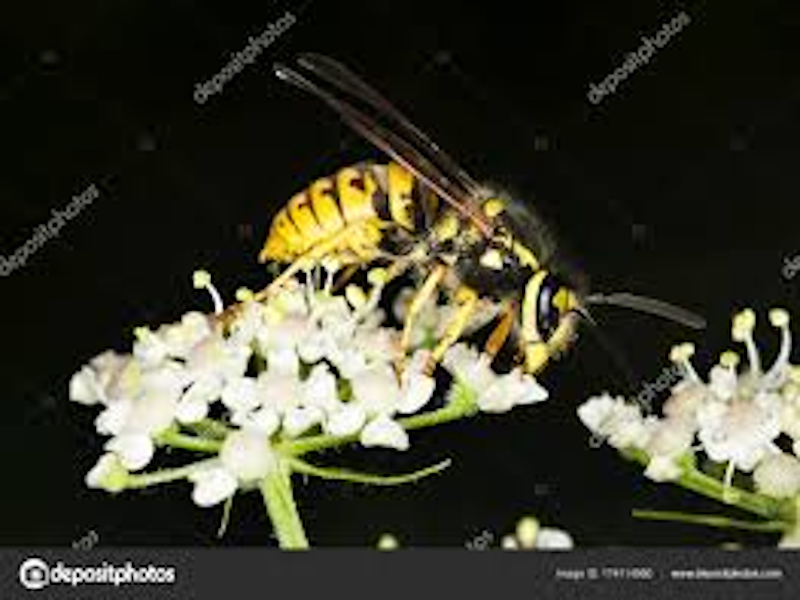chax: (246, 42, 727, 404)
